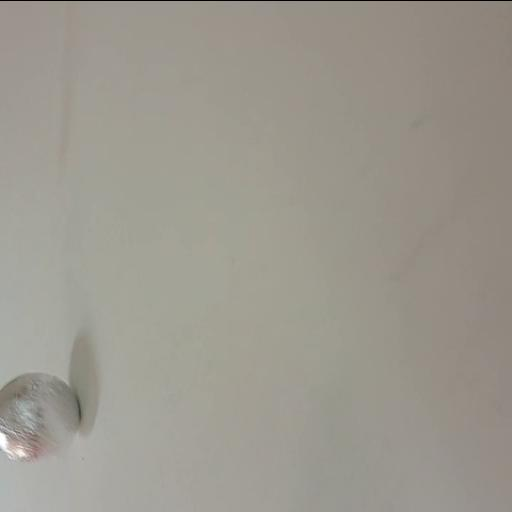alive: (0, 369, 83, 466)
